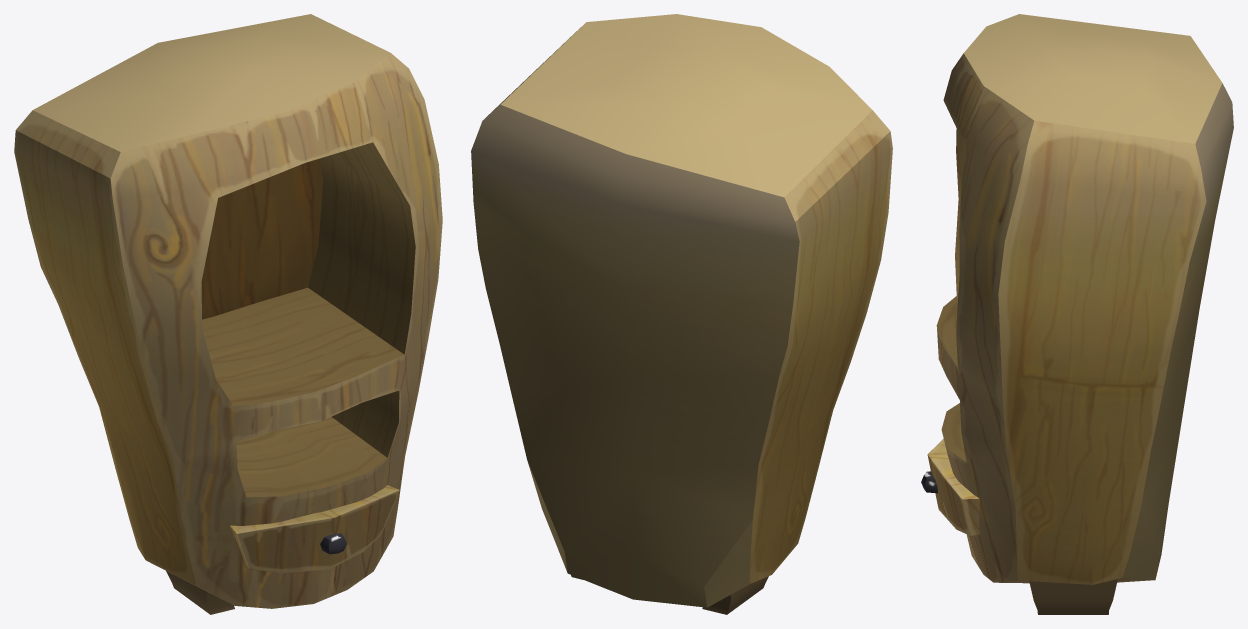
File: Cabinet.fbx
The picture shows the model from 3 angles, left to right: view 1: azimuth 30°, elevation 25°; view 2: azimuth 150°, elevation 25°; view 3: azimuth 270°, elevation 25°; orthographic projection. The views are drawn at different scales.
Visible parts, largest first — view 1: Cabinet; view 2: Cabinet; view 3: Cabinet.
Part boxes in pixels (x1,y1,x2,y2): Cabinet: (14, 14, 442, 614); Cabinet: (471, 14, 892, 614); Cabinet: (921, 14, 1233, 614).
Bounding box in the file's own units: 6.87 × 10.45 × 5.77.
